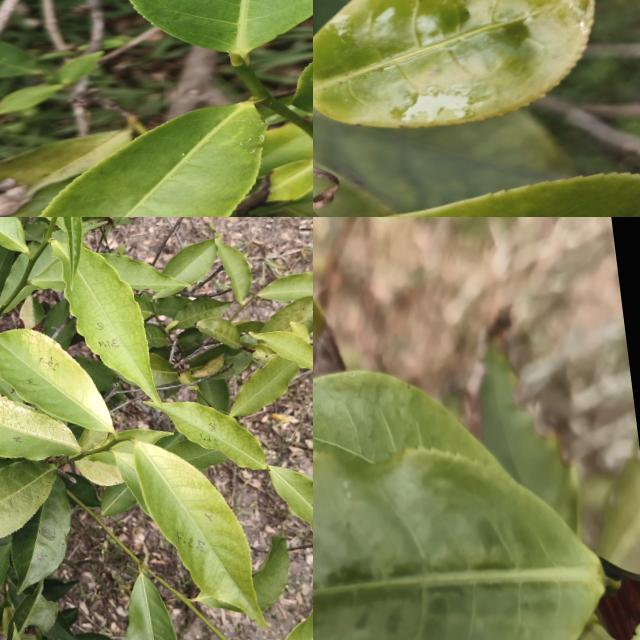Leaf: (313, 448, 605, 640), (313, 0, 594, 127), (313, 108, 572, 212), (39, 101, 266, 217), (134, 441, 265, 627), (313, 370, 505, 475), (479, 340, 578, 530), (65, 246, 158, 401), (0, 328, 113, 431), (384, 173, 640, 217), (0, 128, 132, 193), (145, 401, 266, 469), (11, 471, 70, 591), (0, 395, 79, 460), (0, 459, 57, 538), (230, 355, 298, 416), (103, 253, 187, 297), (126, 572, 176, 640), (268, 465, 313, 532), (252, 535, 290, 610), (163, 236, 219, 284), (250, 331, 313, 369), (13, 582, 58, 632), (216, 241, 252, 303), (257, 295, 313, 332), (0, 84, 64, 113), (173, 296, 231, 328), (258, 272, 313, 302), (0, 41, 42, 77), (58, 51, 103, 84), (29, 253, 65, 291), (196, 317, 239, 348), (63, 217, 82, 285), (0, 245, 14, 293), (0, 378, 23, 401), (0, 543, 10, 585), (73, 632, 115, 640)
